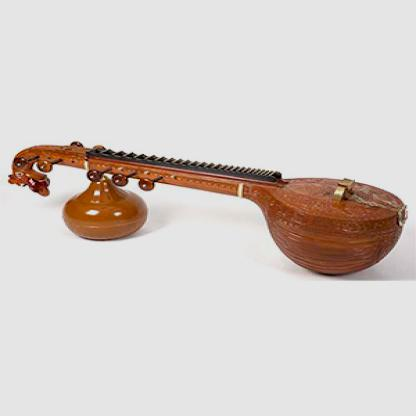Veena: (1, 133, 414, 280)
